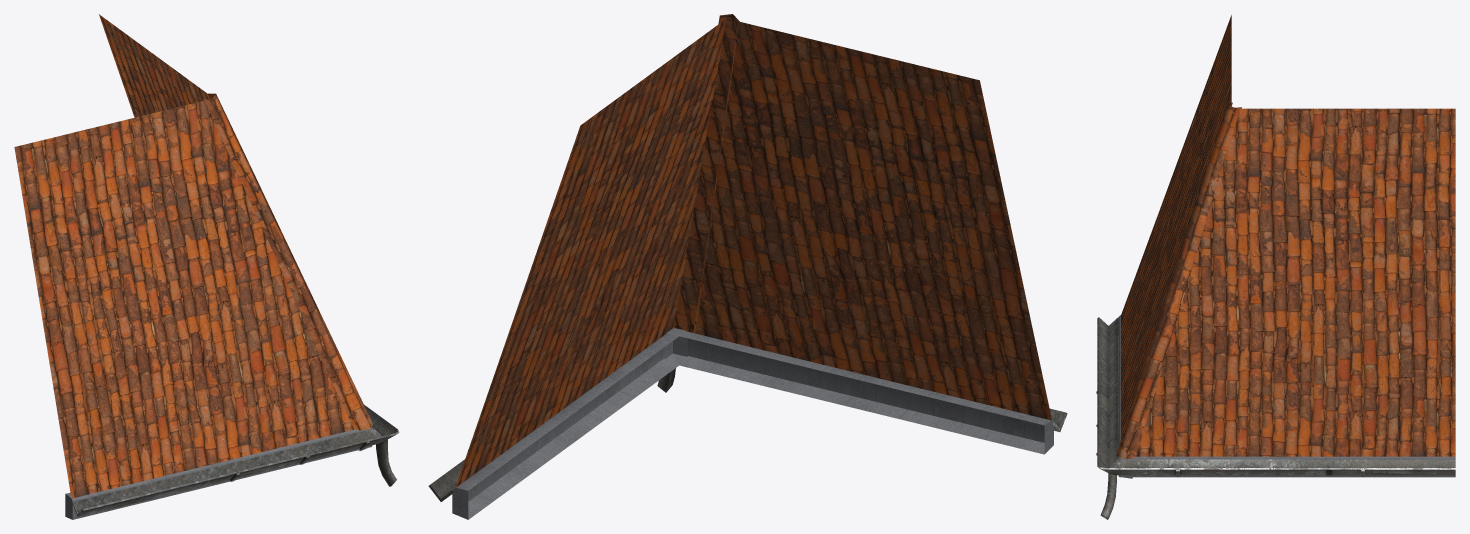
File: SM_Roof_Corner.fbx
3 views of the same model, side by side, from view 1: azimuth 30°, elevation 25°; view 2: azimuth 150°, elevation 25°; view 3: azimuth 270°, elevation 25° (orthographic). The views are drawn at different scales.
Visible parts, largest first — view 1: SM_Roof_Corner; view 2: SM_Roof_Corner; view 3: SM_Roof_Corner.
Boxes of the visible parts, x1,y1,x2,y2 form: SM_Roof_Corner: (14,14,399,519); SM_Roof_Corner: (428,14,1067,519); SM_Roof_Corner: (1096,15,1455,519).
Size of the model in its own units: 3.21 by 3.56 by 3.21.
